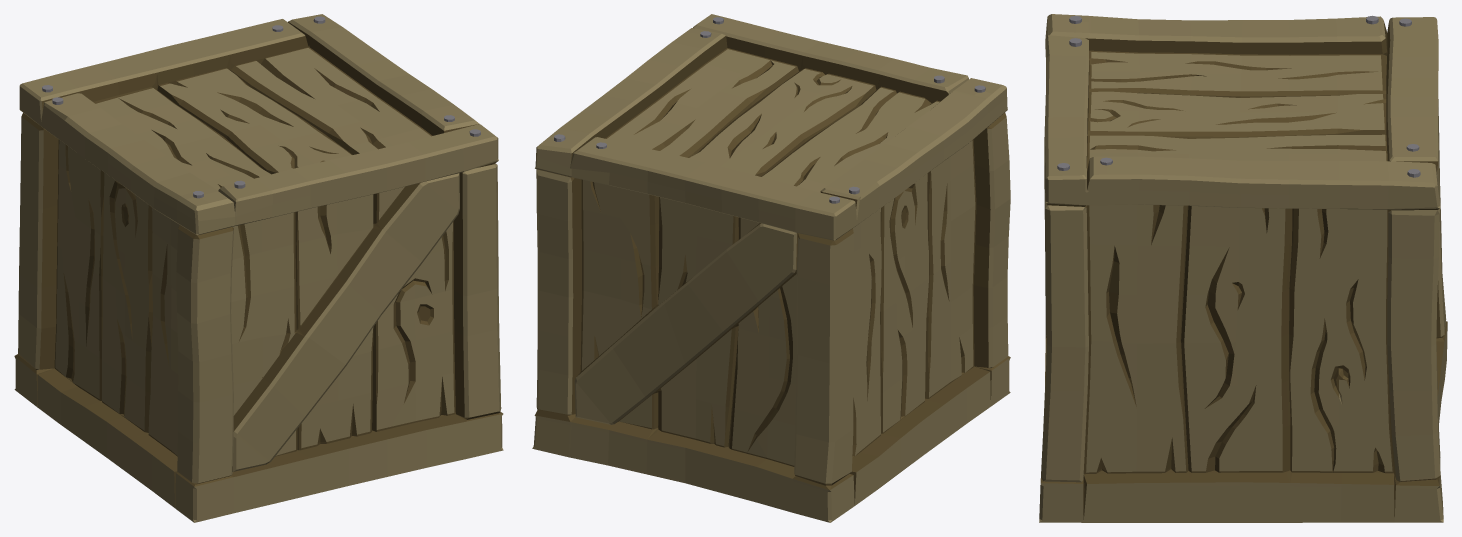
Rendered from Caja.fbx.
3 renders of one model, left to right at view 1: azimuth 30°, elevation 25°; view 2: azimuth 150°, elevation 25°; view 3: azimuth 270°, elevation 25°, orthographic. The views are drawn at different scales.
Parts seen in each view (by area): view 1: Cube; view 2: Cube; view 3: Cube.
Boxes of the visible parts, bbox=[...] form: Cube: bbox=[14, 14, 503, 522]; Cube: bbox=[532, 14, 1010, 522]; Cube: bbox=[1039, 14, 1447, 522].
Size of the model in its own units: 202 by 198 by 210.
